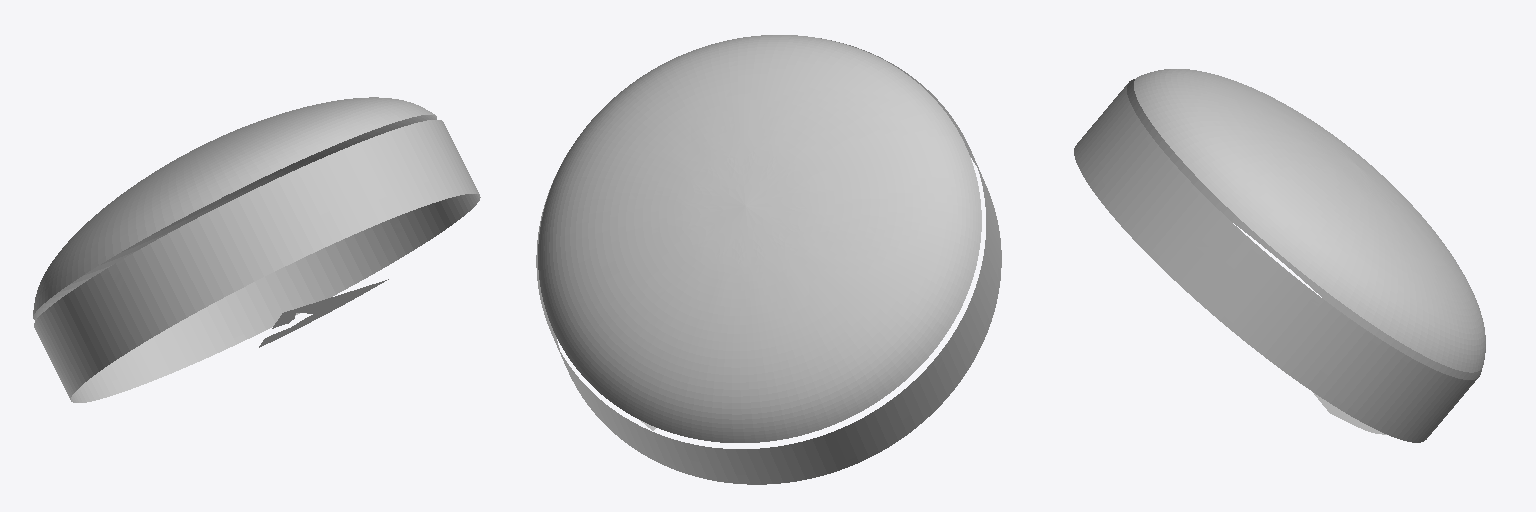
File: teddy-unline.obj
3 renders of one model, left to right at view 1: azimuth 30°, elevation 25°; view 2: azimuth 150°, elevation 25°; view 3: azimuth 270°, elevation 25°, orthographic.
Visible parts, largest first — view 1: footBigLeft group3; view 2: footBigLeft group3; view 3: footBigLeft group3.
Part boxes in pixels (x1,y1,x2,y2): footBigLeft group3: (33,97,480,402); footBigLeft group3: (536,35,1001,484); footBigLeft group3: (1074,69,1485,442).
Size of the model in its own units: 1.38 by 1.1 by 1.22.